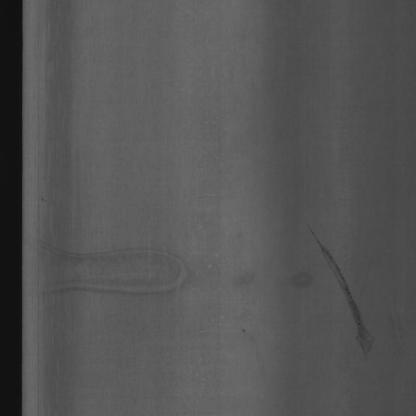water_spot: (312, 230, 384, 367)
